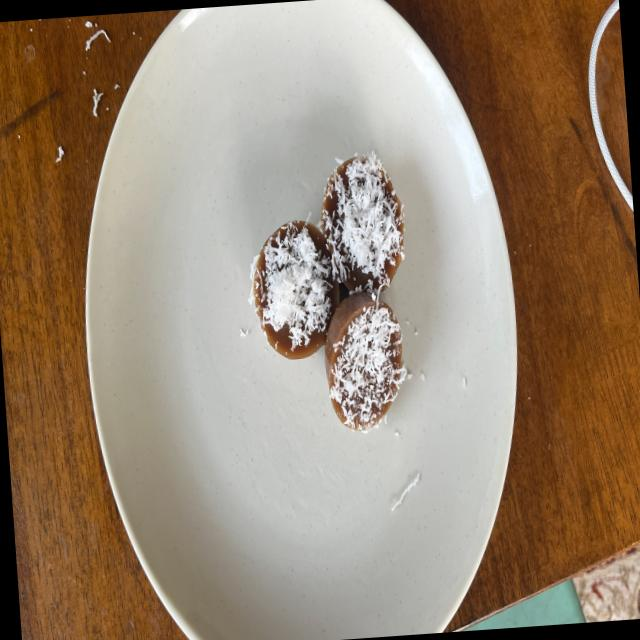Kuih lompang: (248, 219, 339, 358), (321, 151, 404, 294), (324, 292, 405, 431)
